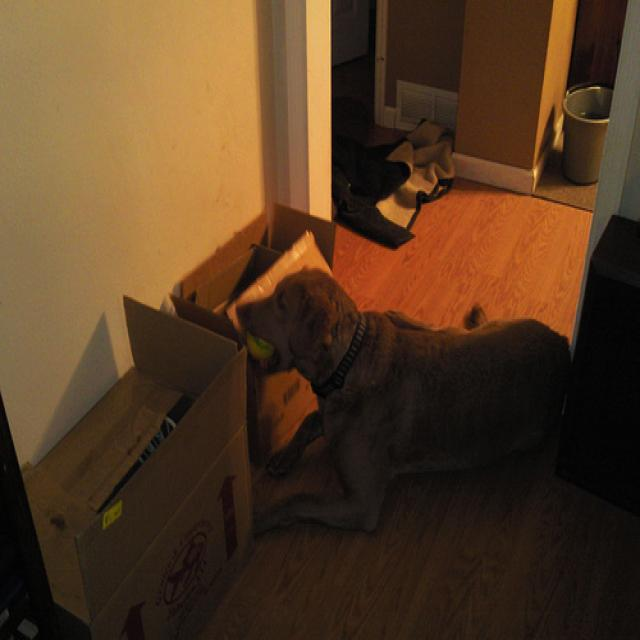Dog: (277, 253, 619, 559)
